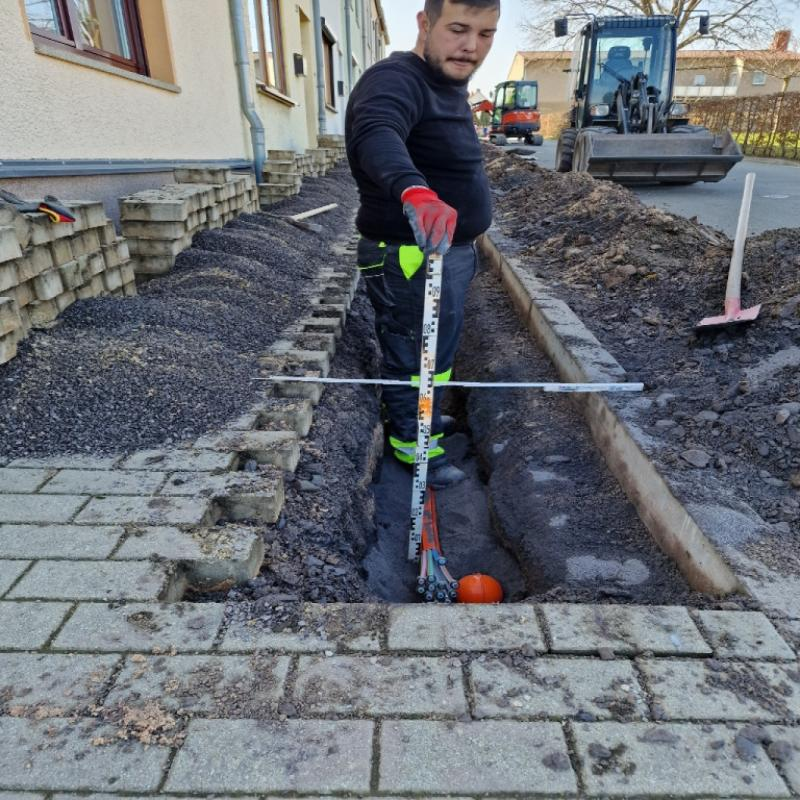Kugelmarker: (458, 574, 502, 603)
Orang-Speednetrohrchen: (417, 488, 458, 602)
